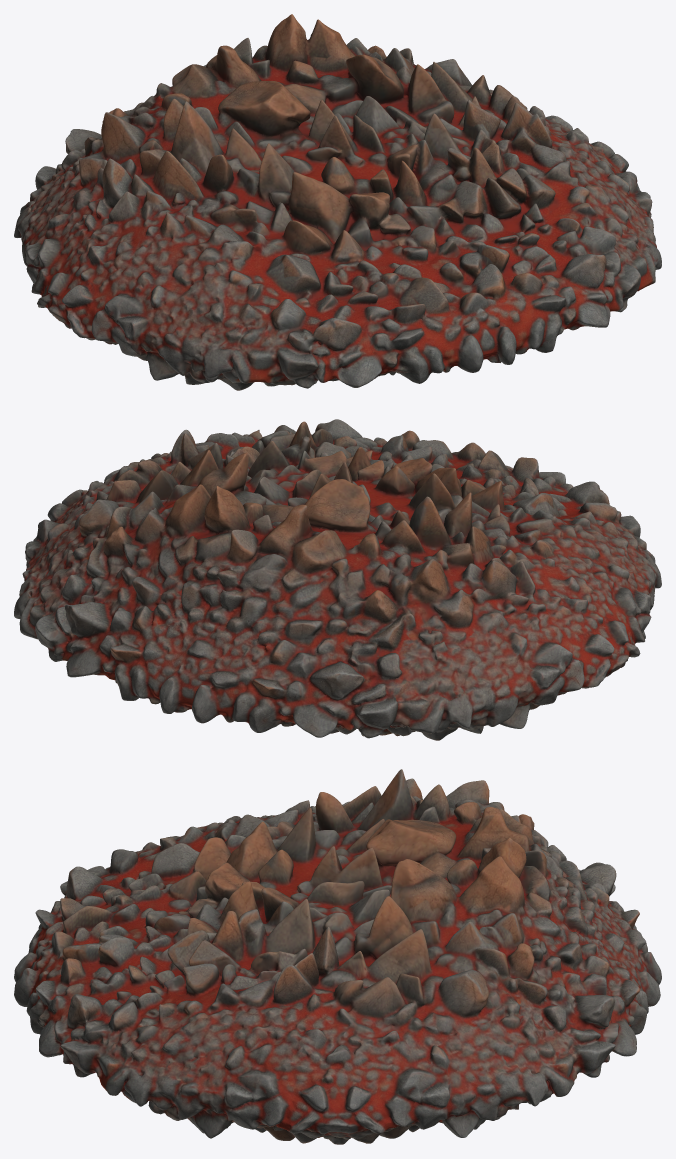
Rendered from Ventifact.glb.
3 renders of one model, top to bottom at view 1: azimuth 30°, elevation 25°; view 2: azimuth 150°, elevation 25°; view 3: azimuth 270°, elevation 25°, orthographic. The views are drawn at different scales.
Bounding box in the file's own units: 1.9 × 0.7594 × 1.8.
1 material, 1 textured.
